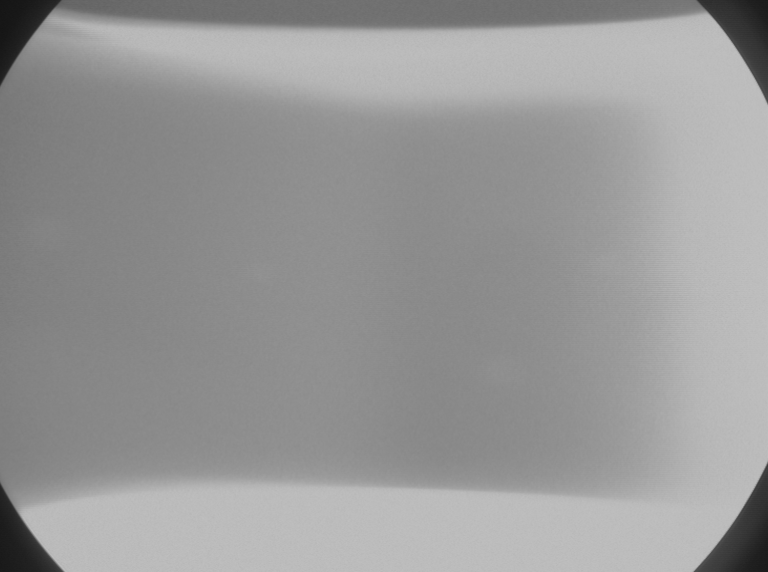defect: (25, 215, 67, 252)
